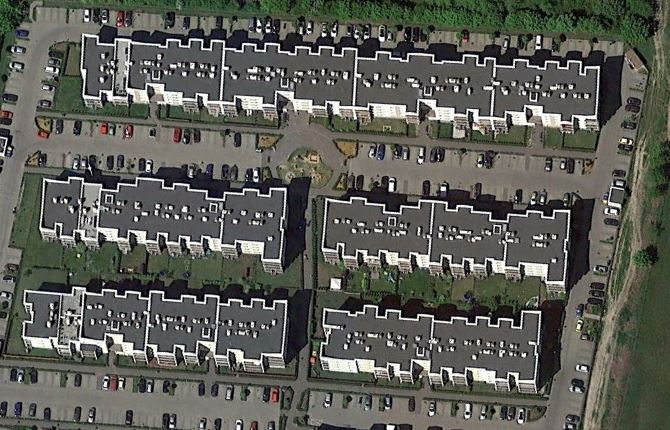block of flats: (78, 27, 608, 137), (33, 173, 291, 278), (316, 187, 576, 291), (20, 282, 293, 376), (313, 303, 543, 397)
